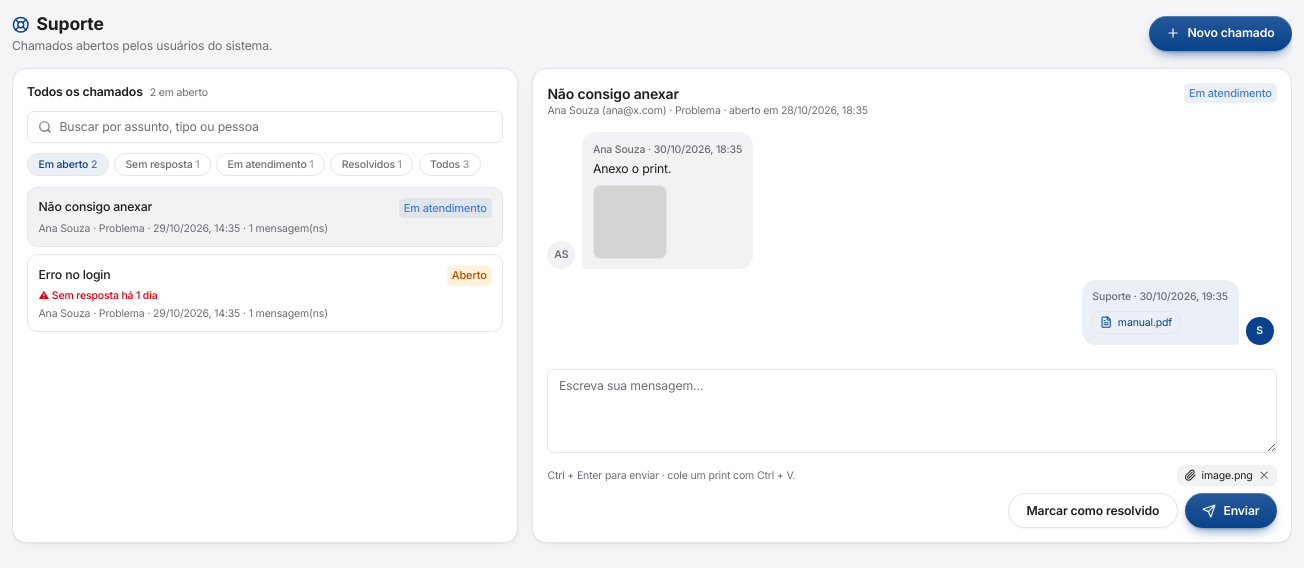
it: Suporte › cola um print (Ctrl+V) como anexo e permite remover
This screenshot has width=1304, height=568.
Expected: the text "image.png" is shown, [1202,468,1252,482]
Click the button named "Remover anexo" at x=1264, y=476, box [1258,469,1270,482]
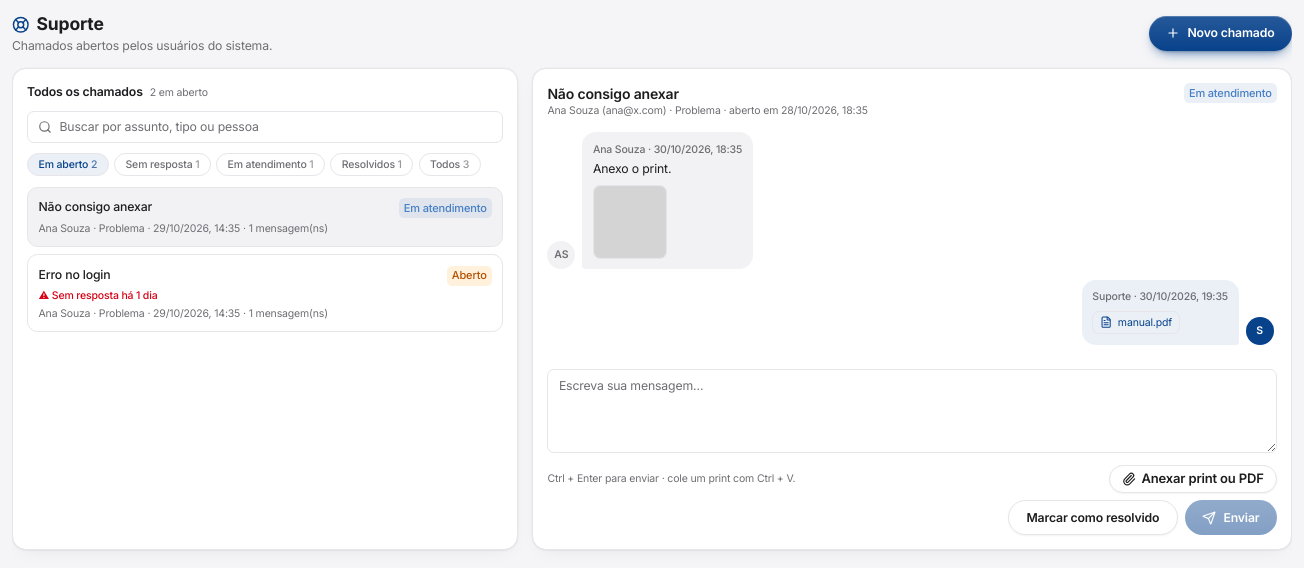
Now the text "image.png" is gone
